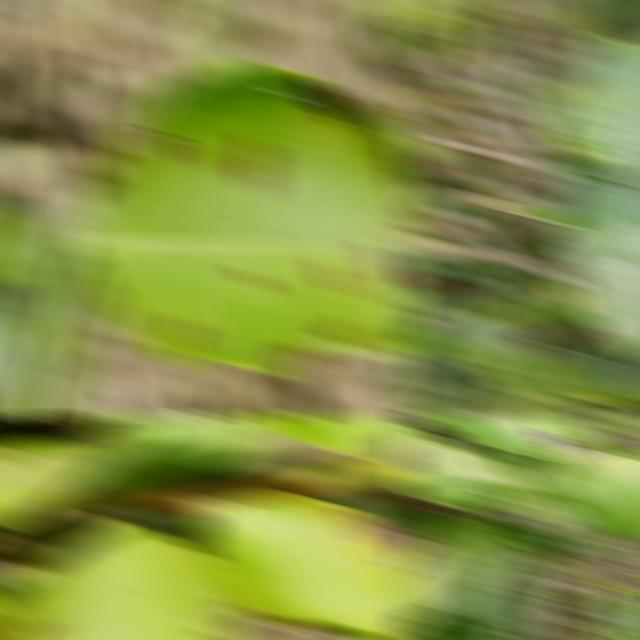Leaf: (76, 62, 418, 376), (196, 493, 418, 640), (546, 36, 640, 361), (0, 519, 247, 640), (60, 414, 293, 503), (0, 208, 86, 418), (446, 300, 600, 398), (0, 437, 164, 527), (27, 255, 110, 418), (400, 510, 515, 622), (517, 322, 640, 407), (400, 440, 534, 507), (467, 525, 543, 640), (53, 0, 124, 116), (566, 451, 640, 537), (421, 414, 560, 456), (169, 0, 232, 76), (0, 189, 44, 282), (353, 0, 412, 68), (400, 11, 467, 66), (546, 493, 604, 555), (511, 492, 581, 526), (72, 186, 115, 239), (603, 594, 640, 640), (446, 616, 491, 640), (413, 618, 459, 640)
